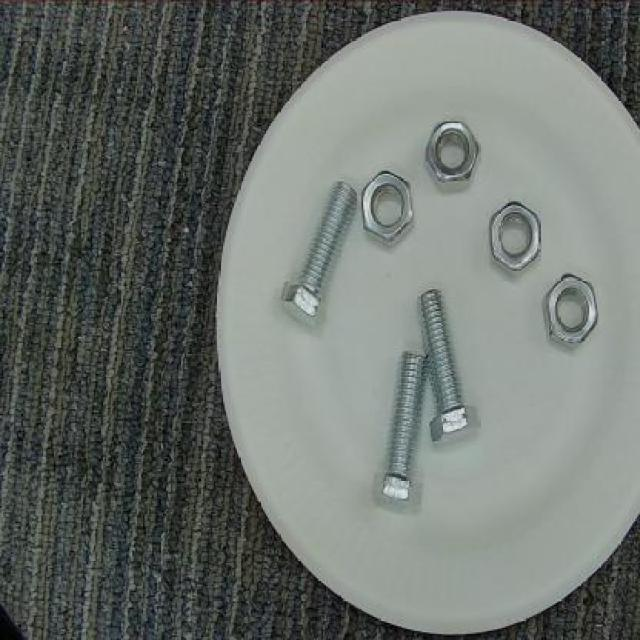Bolt: (274, 177, 362, 328), (365, 350, 433, 512), (417, 286, 485, 448)
Nut: (357, 169, 424, 248), (487, 195, 545, 278), (541, 272, 600, 351), (425, 117, 482, 189)
